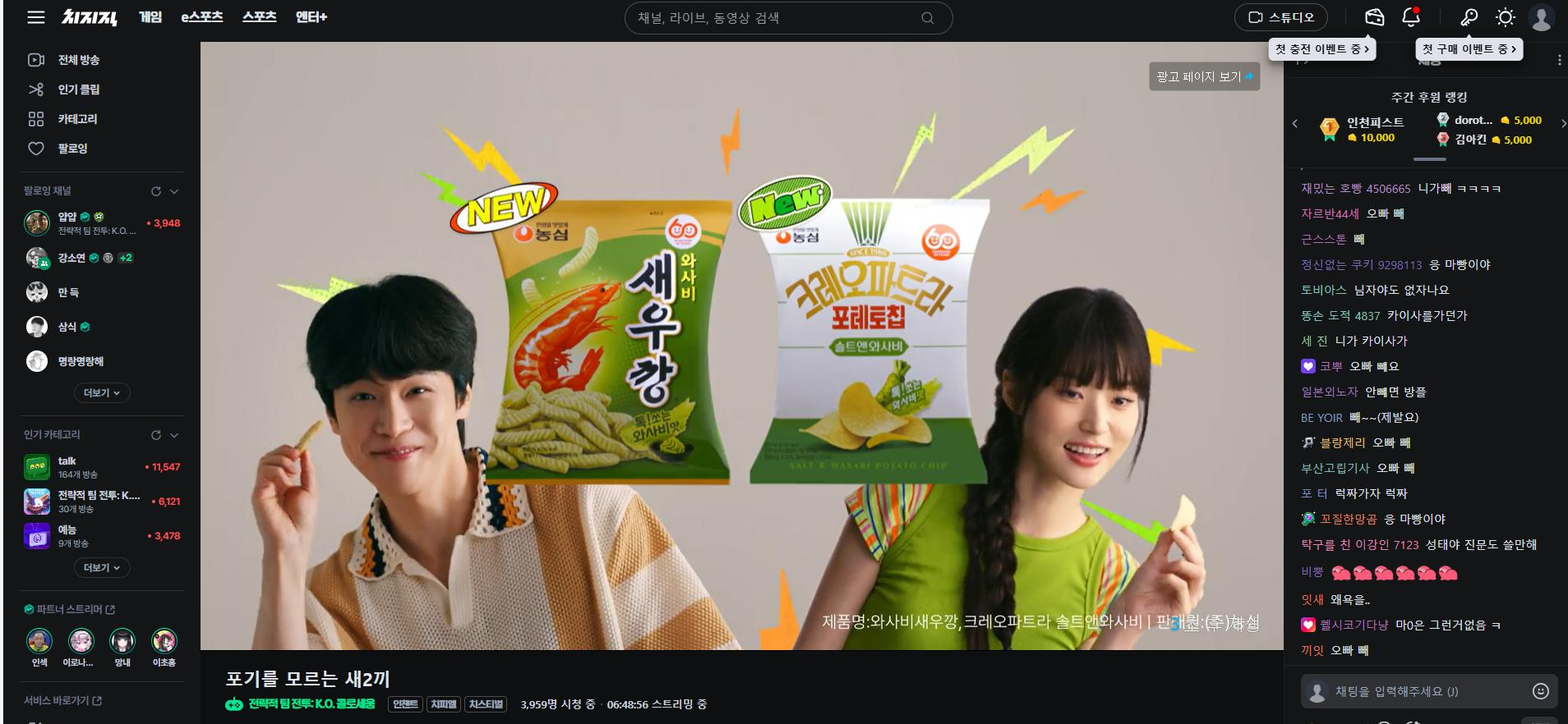button: (1232, 1, 1331, 35), (22, 45, 112, 68), (23, 77, 113, 100), (23, 107, 113, 130), (23, 137, 113, 160), (62, 624, 102, 671), (147, 624, 183, 674), (106, 625, 142, 673), (291, 4, 347, 34), (73, 378, 134, 404), (74, 555, 135, 579), (23, 626, 56, 670), (1524, 1, 1567, 34), (180, 5, 228, 32), (239, 4, 285, 32), (1400, 0, 1434, 32), (133, 4, 171, 32), (1362, 0, 1391, 35), (19, 5, 52, 30), (1460, 3, 1486, 33), (1288, 109, 1306, 150), (1493, 5, 1519, 31), (1550, 49, 1568, 80), (1531, 679, 1553, 703), (1555, 109, 1568, 149), (147, 178, 165, 204), (90, 691, 109, 711), (167, 179, 183, 202), (102, 602, 119, 621), (149, 425, 164, 442), (168, 427, 182, 442)
input_field: (619, 0, 960, 41), (1296, 670, 1568, 711)
popup: (1146, 61, 1267, 95), (1266, 33, 1385, 62), (1413, 35, 1530, 63)
